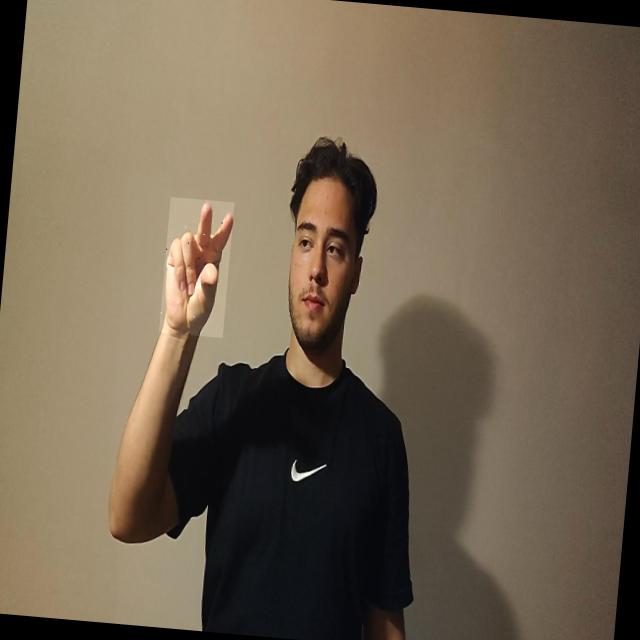no: (158, 196, 234, 338)
